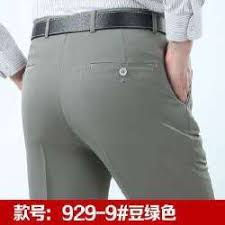F_belt: (15, 4, 184, 47)
